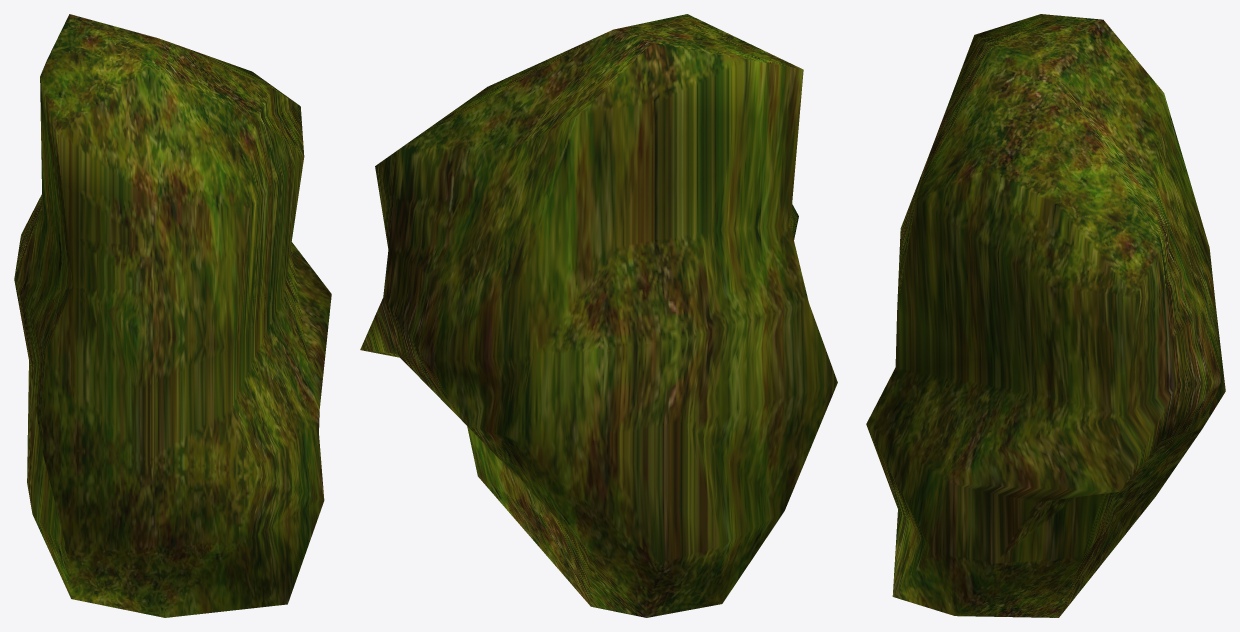
Rendered from TROLLHOLE02_ZRM_PSURF105.fbx.
3 renders of one model, left to right at view 1: azimuth 30°, elevation 25°; view 2: azimuth 150°, elevation 25°; view 3: azimuth 270°, elevation 25°, orthographic. The views are drawn at different scales.
Visible parts, largest first — view 1: TROLLHOLE02_ZRM_PSURF105; view 2: TROLLHOLE02_ZRM_PSURF105; view 3: TROLLHOLE02_ZRM_PSURF105.
Part boxes in pixels (bbox=[...]): TROLLHOLE02_ZRM_PSURF105: bbox=[14, 14, 331, 617]; TROLLHOLE02_ZRM_PSURF105: bbox=[360, 14, 837, 617]; TROLLHOLE02_ZRM_PSURF105: bbox=[866, 14, 1225, 617].
Bounding box in the file's own units: 52541 × 77182 × 44951.
Materials: 1 (1 with a texture image).
